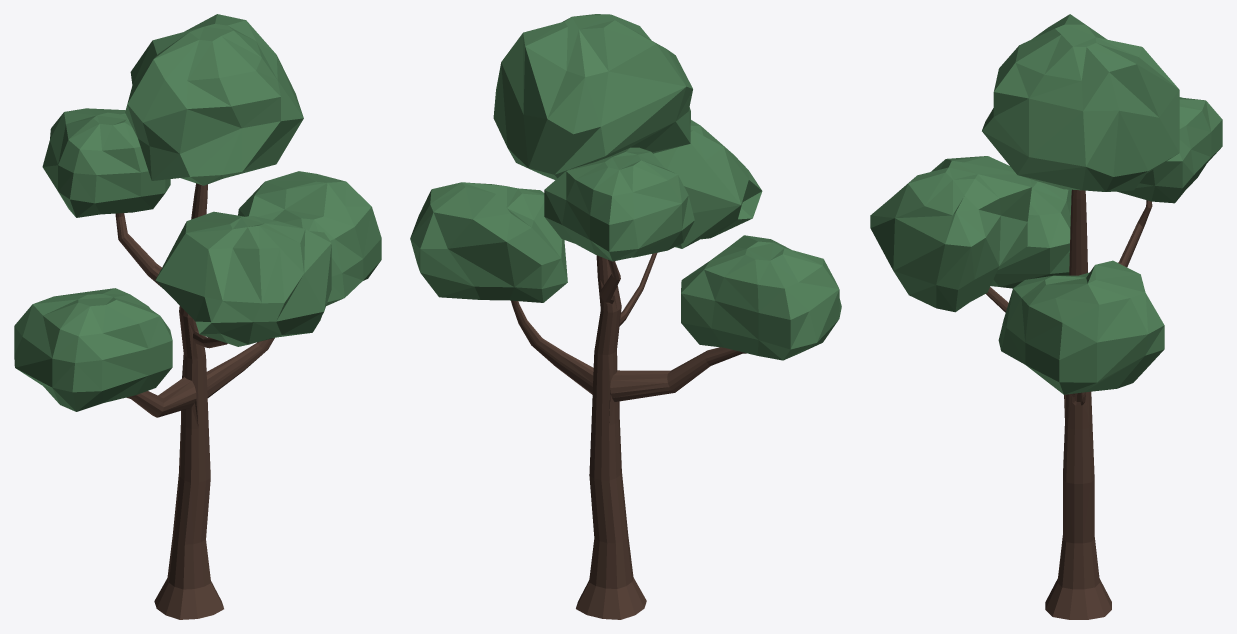
Rendered from Trees4.fbx.
3 views of the same model, side by side, from view 1: azimuth 30°, elevation 25°; view 2: azimuth 150°, elevation 25°; view 3: azimuth 270°, elevation 25° (orthographic). The views are drawn at different scales.
Visible parts, largest first — view 1: Leaves4, Trunk4; view 2: Leaves4, Trunk4; view 3: Leaves4, Trunk4.
Part boxes in pixels (x1,y1,x2,y2): Leaves4: (14,14,381,411); Trunk4: (115,183,274,619); Leaves4: (410,14,841,360); Trunk4: (511,252,746,619); Leaves4: (870,14,1222,394); Trunk4: (986,189,1152,619).
Size of the model in its own units: 2165 by 3173 by 1736.
